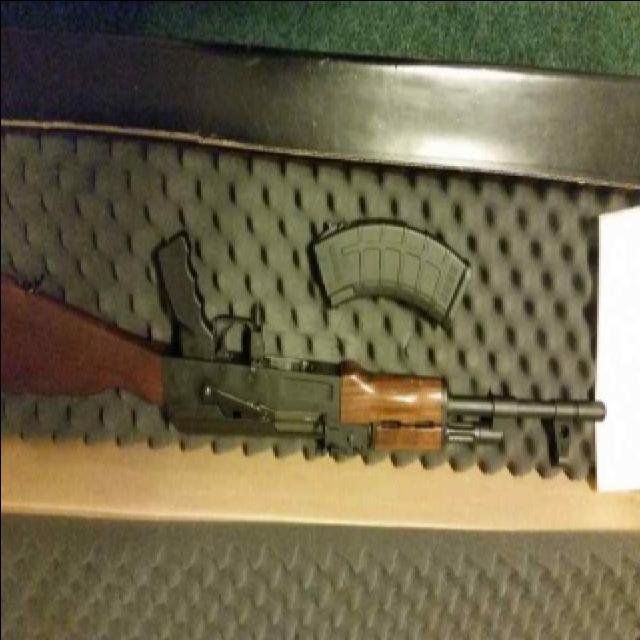rifle: (1, 233, 611, 461)
